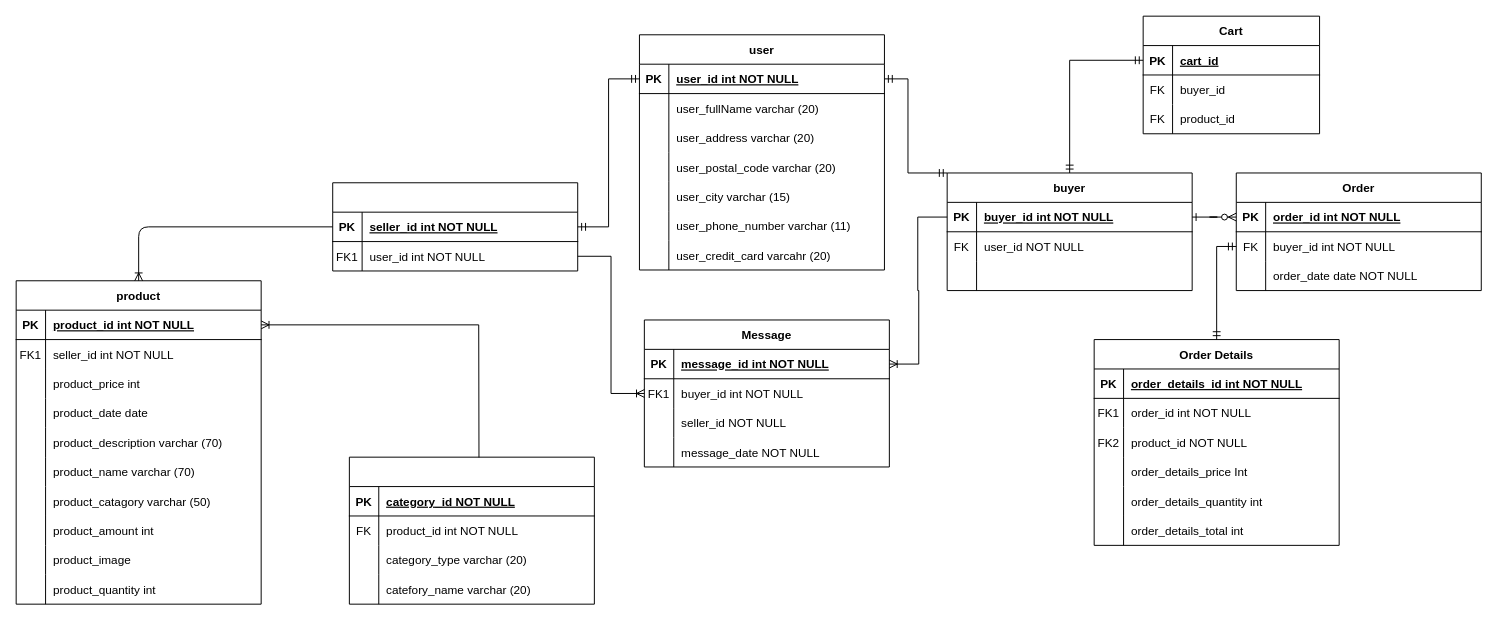
Image size: 1497x620. Some labels were removed from this diagram. The shapes that lost their labels are listed below. From the top down, each one's box as (x1, y1, x2, y2) in pixels, then its label:
(332, 182, 578, 271): Sellers
(348, 456, 594, 604): Categories
